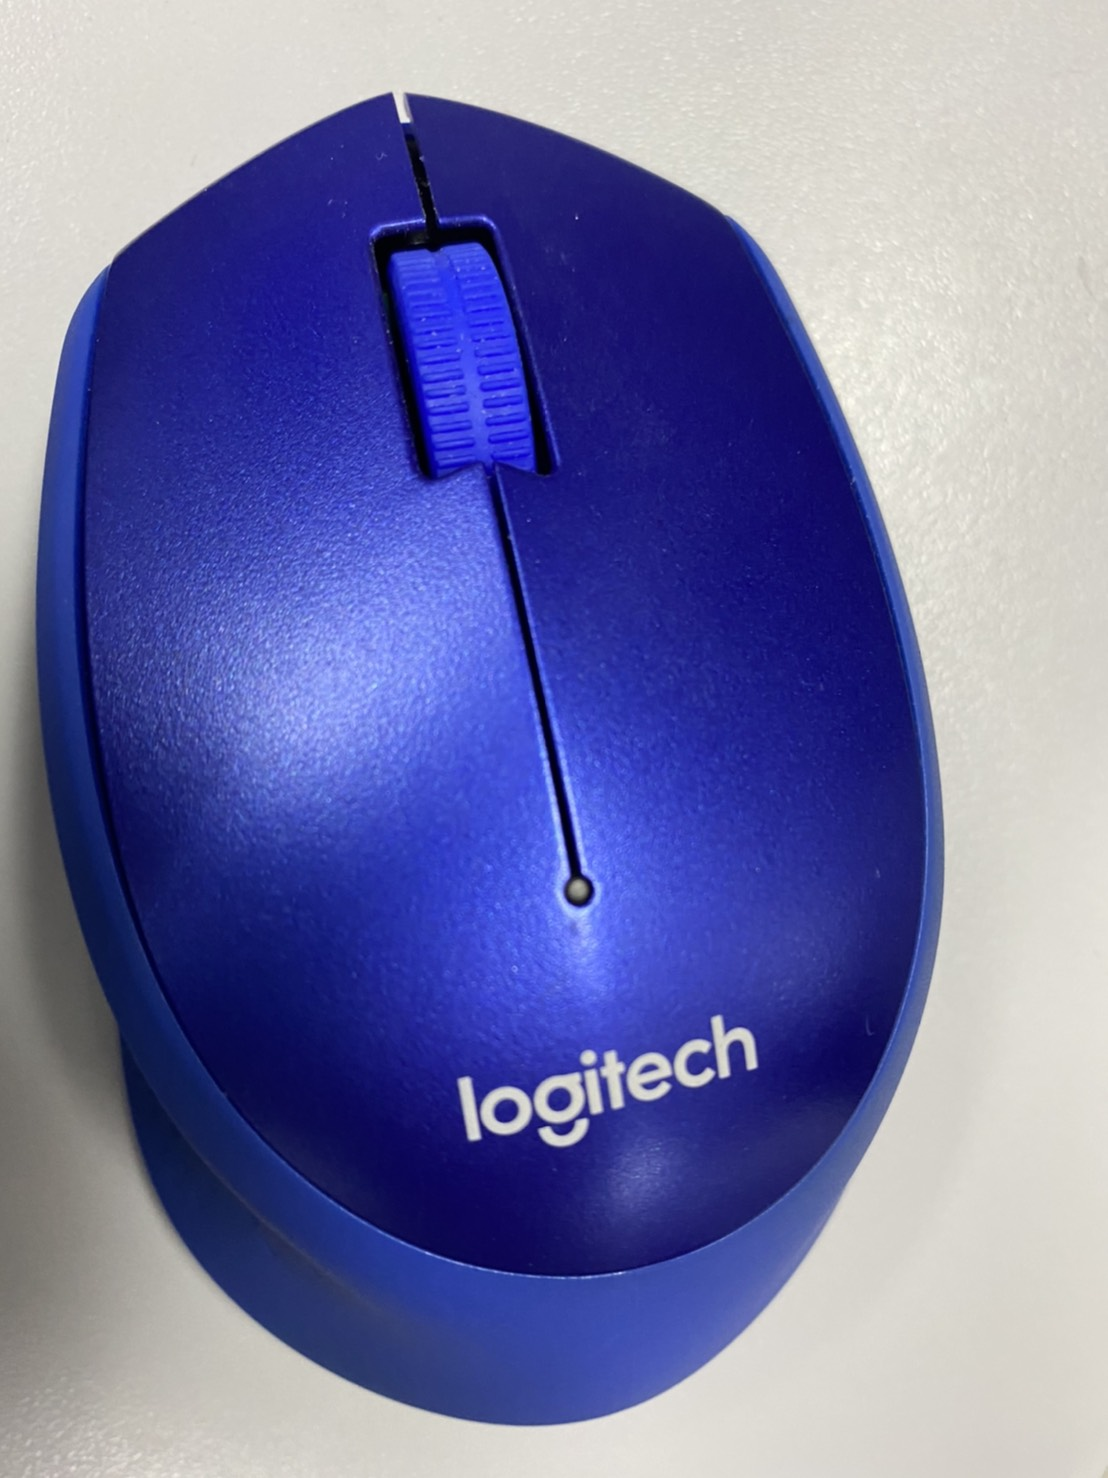mouse: (17, 92, 949, 1478)
